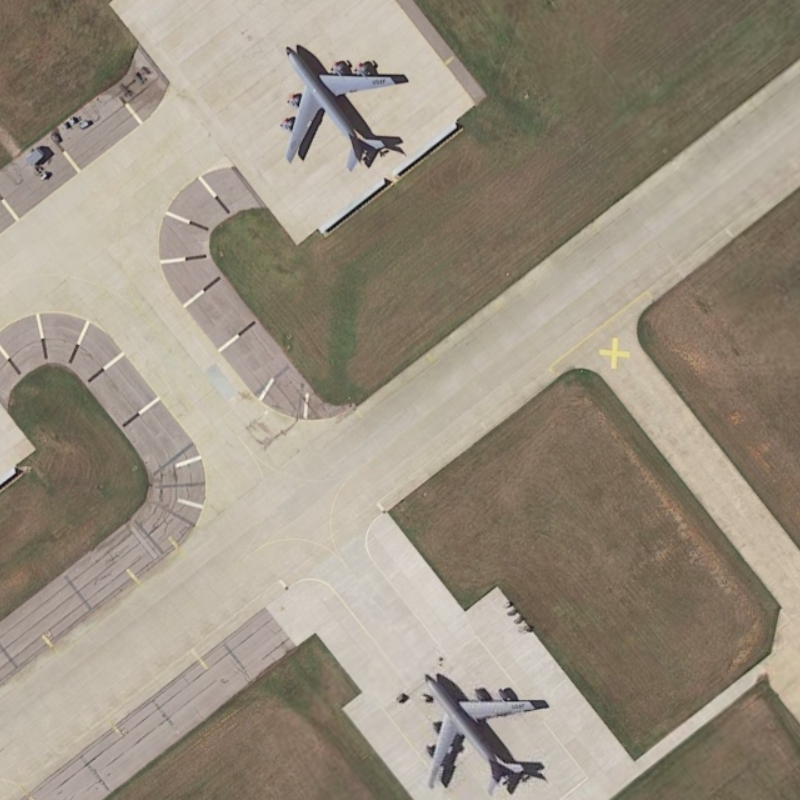A14: (275, 33, 410, 174), (416, 670, 552, 800)
